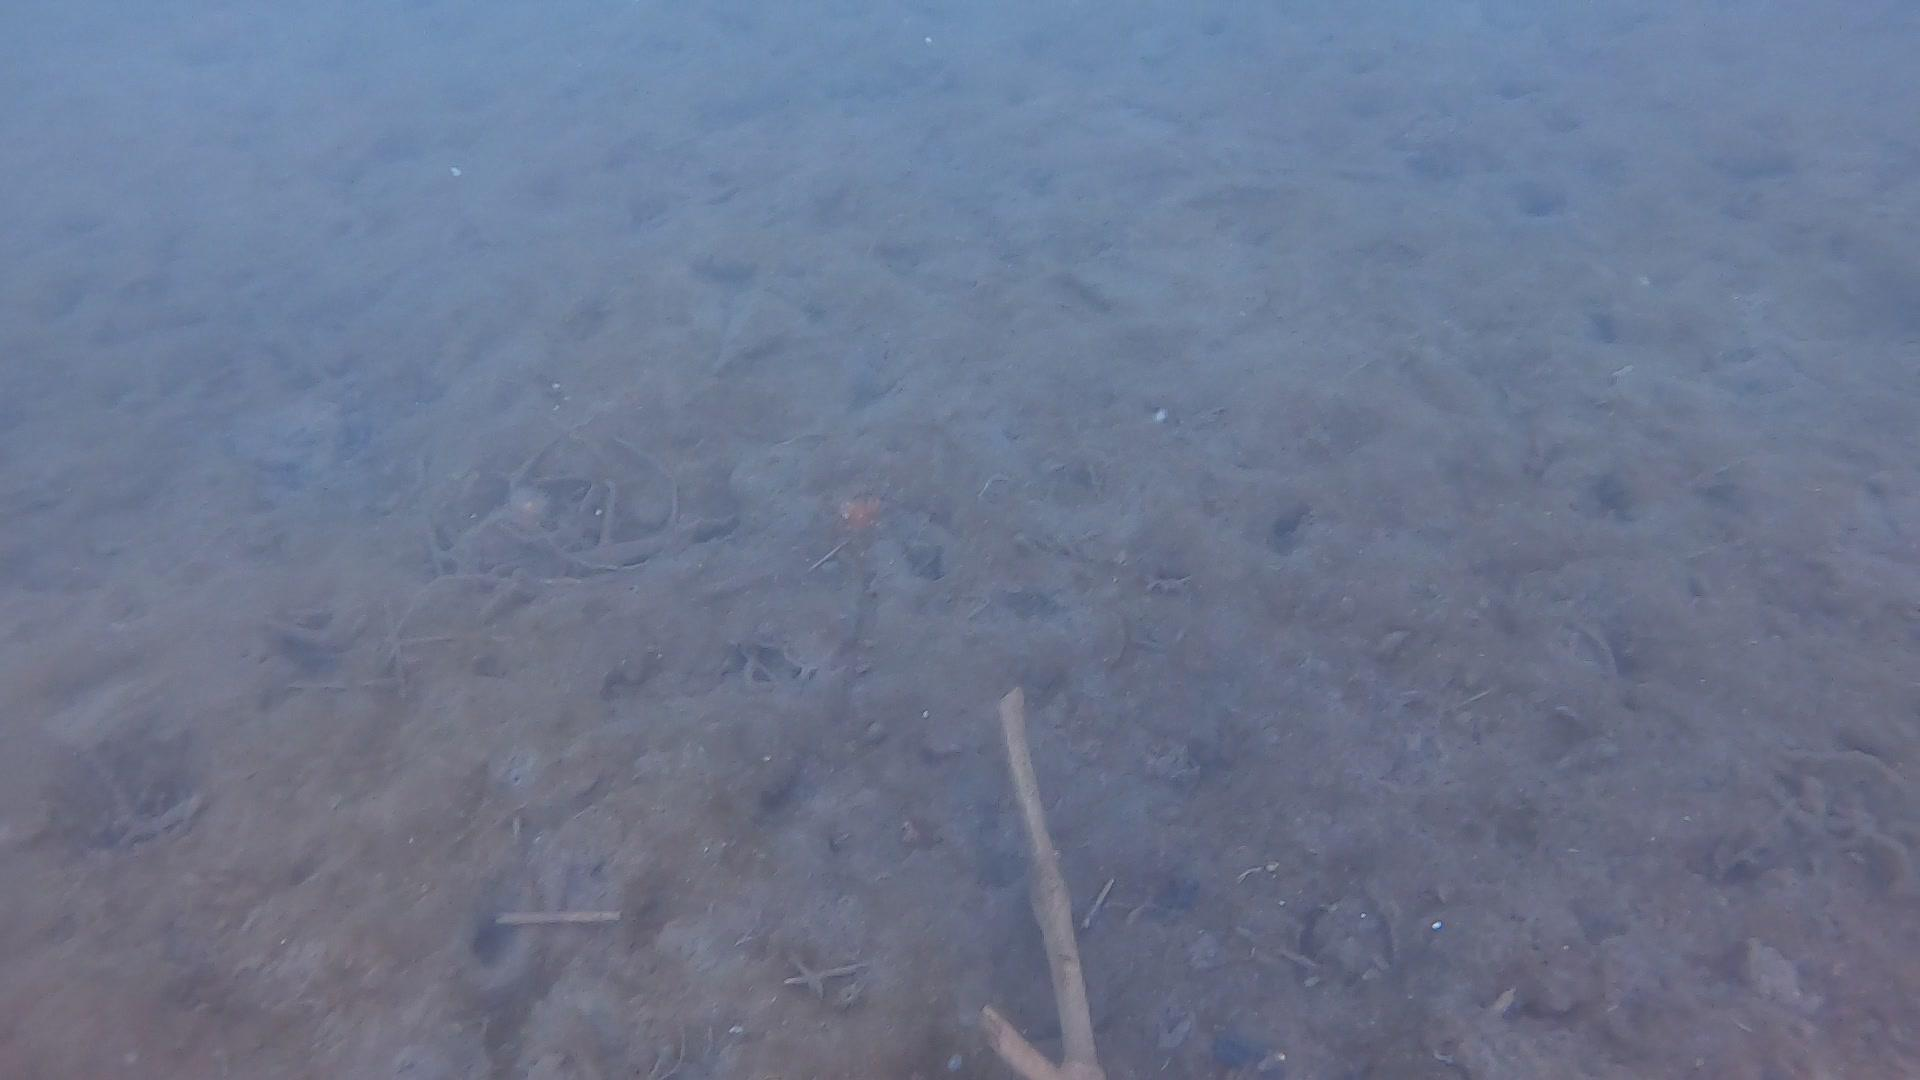wood: (975, 687, 1106, 1080)
